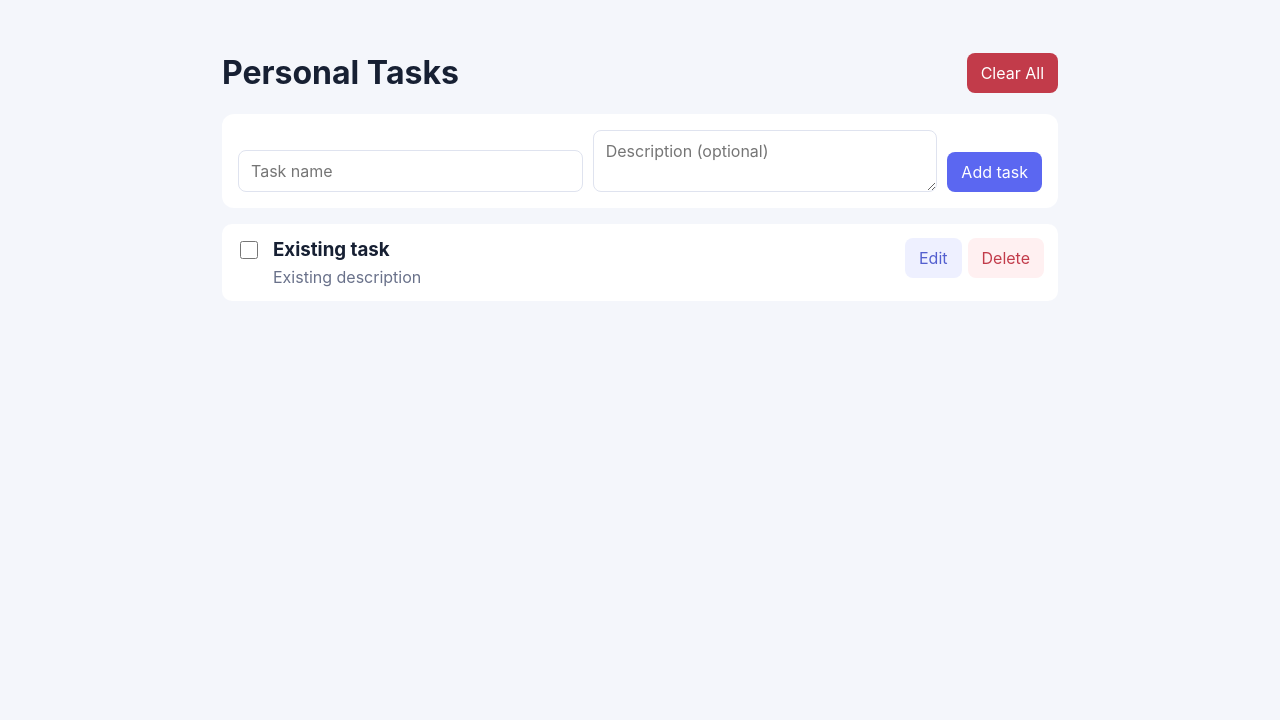
Test: CategoryTasks › updates the description without changing the task name
The width and height of the screenshot is (1280, 720).
Step 1. Click the button with aria-label "Edit Existing task" → (933, 258), box [905, 238, 962, 278]
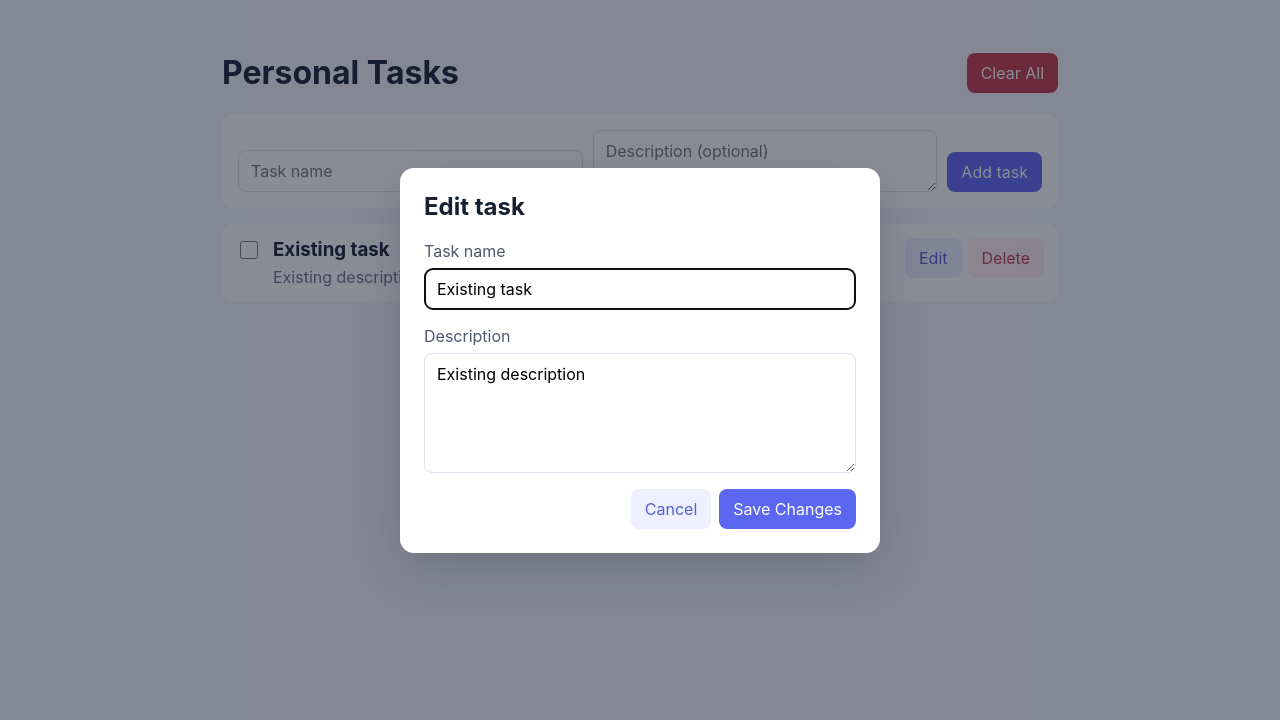
expect the text box labelled "Description" holds "Existing description": met
Step 2. Replace the text in the text box labelled "Description" with "Updated description" → (640, 412), box [424, 352, 856, 472]
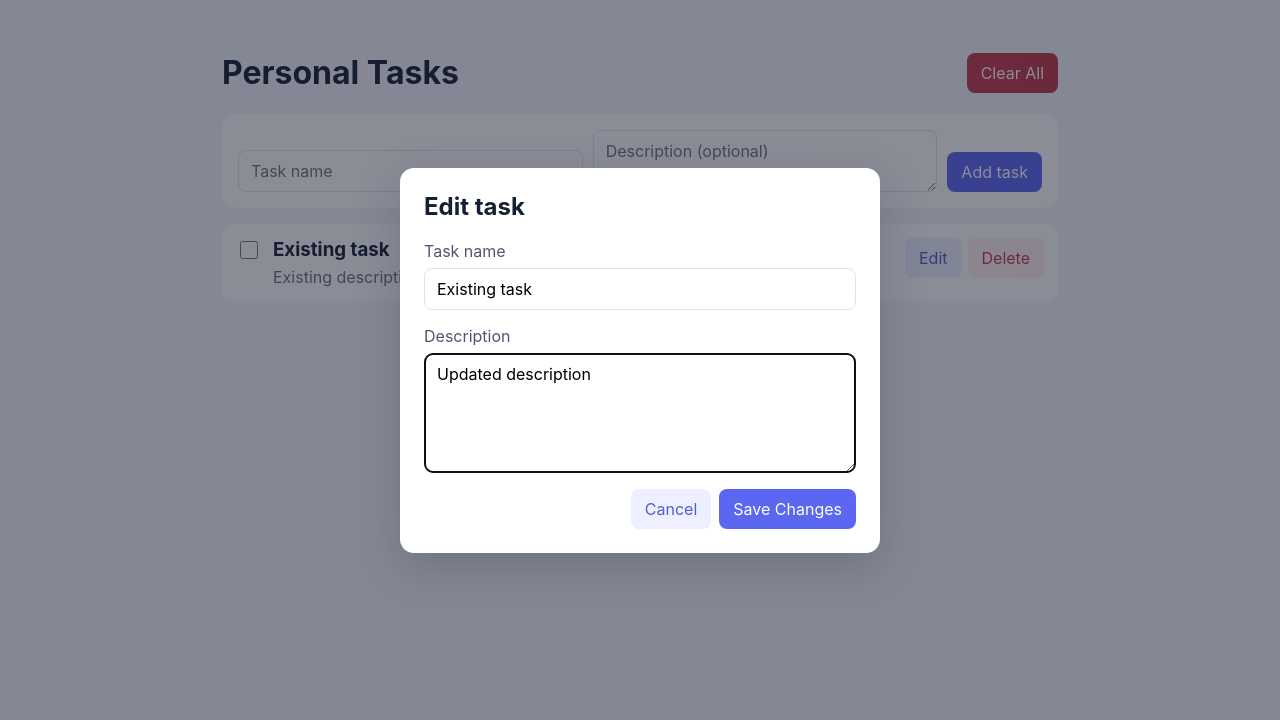
Step 3. Click the button "Save Changes" → (788, 508), box [719, 488, 856, 528]
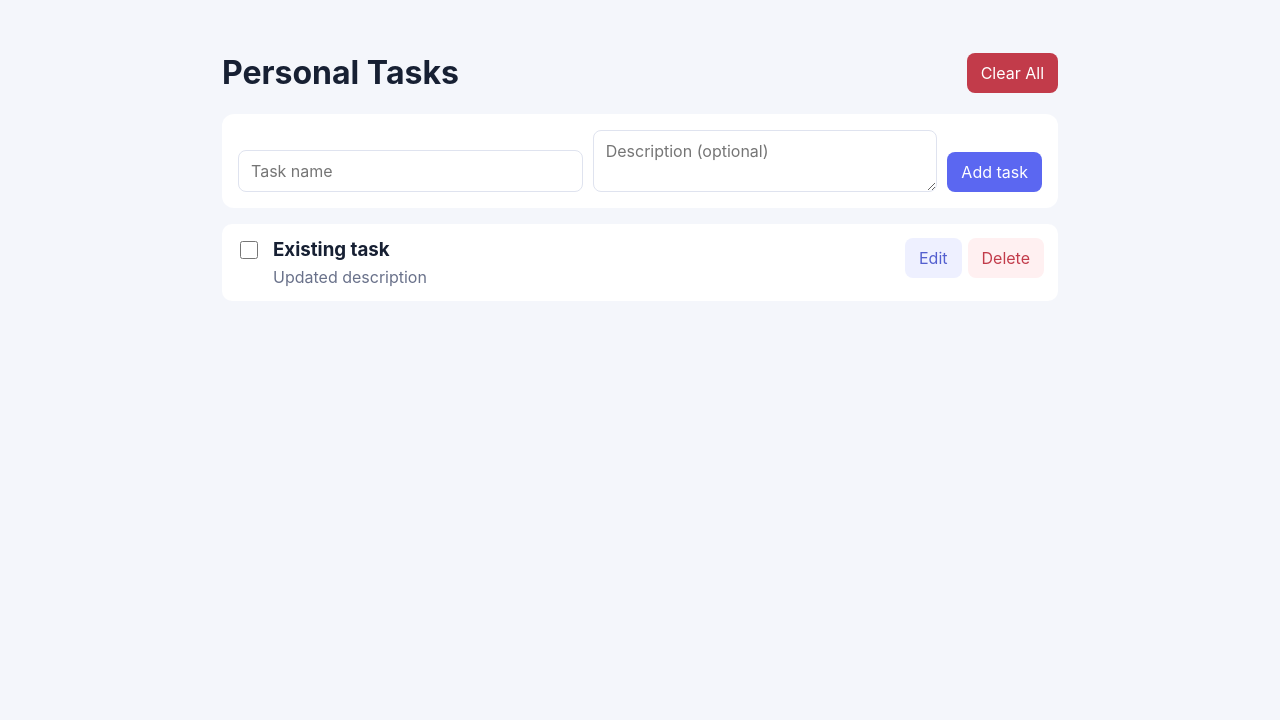
expect the text "Updated description" is shown: met, box [273, 267, 427, 287]
